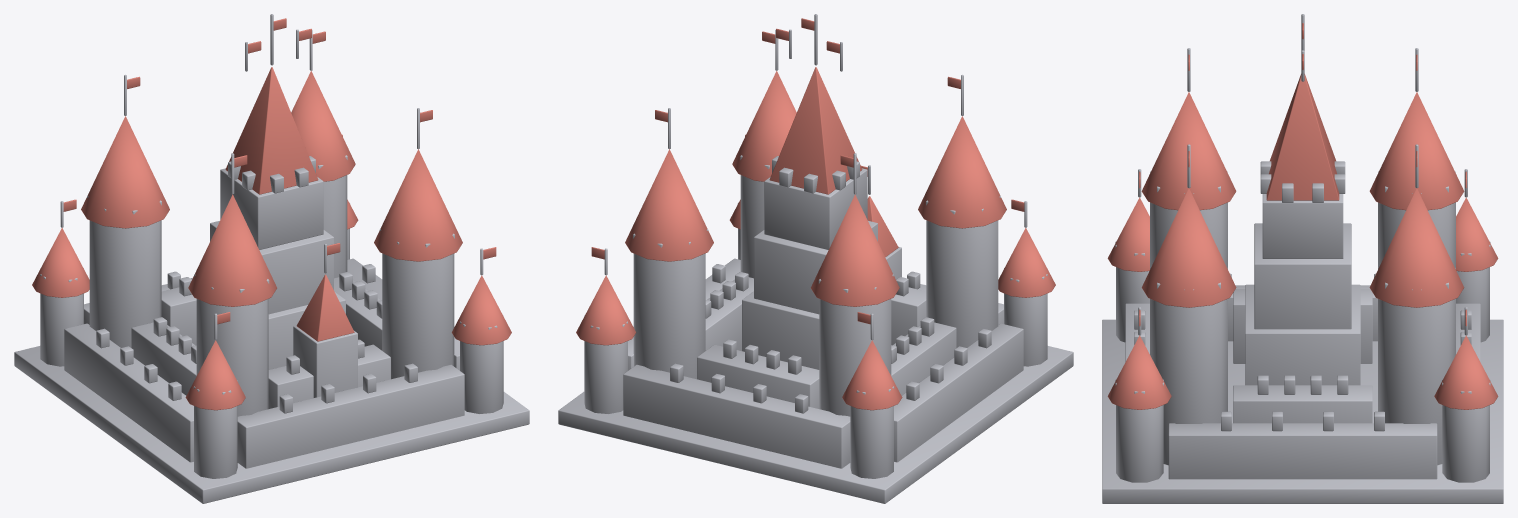
The model's file is castle_t5.glb.
3 views of the same model, side by side, from view 1: azimuth 30°, elevation 25°; view 2: azimuth 150°, elevation 25°; view 3: azimuth 270°, elevation 25° (orthographic). The views are drawn at different scales.
Visible parts, largest first — view 1: stone, roof; view 2: stone, roof; view 3: stone, roof.
Part boxes in pixels (x1=…): stone: x1=14, y1=14, x2=529, y2=503; roof: x1=32, y1=18, x2=511, y2=410; stone: x1=558, y1=14, x2=1073, y2=503; roof: x1=576, y1=18, x2=1055, y2=410; stone: x1=1102, y1=14, x2=1503, y2=503; roof: x1=1107, y1=23, x2=1498, y2=409.
Bounding box in the file's own units: 4.72 × 5.26 × 4.72.
